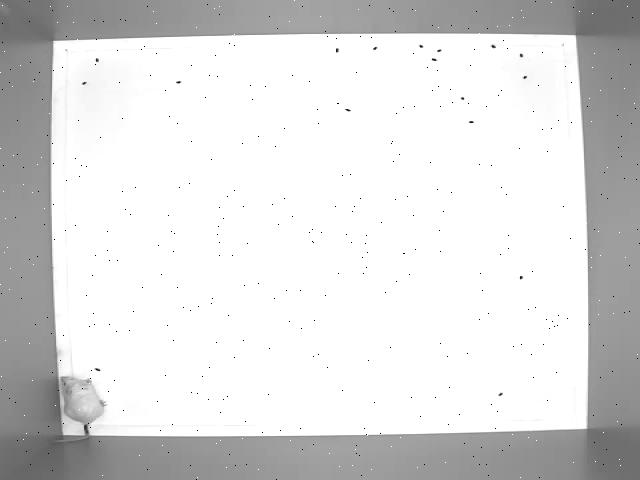Tikus: (56, 373, 126, 441)
